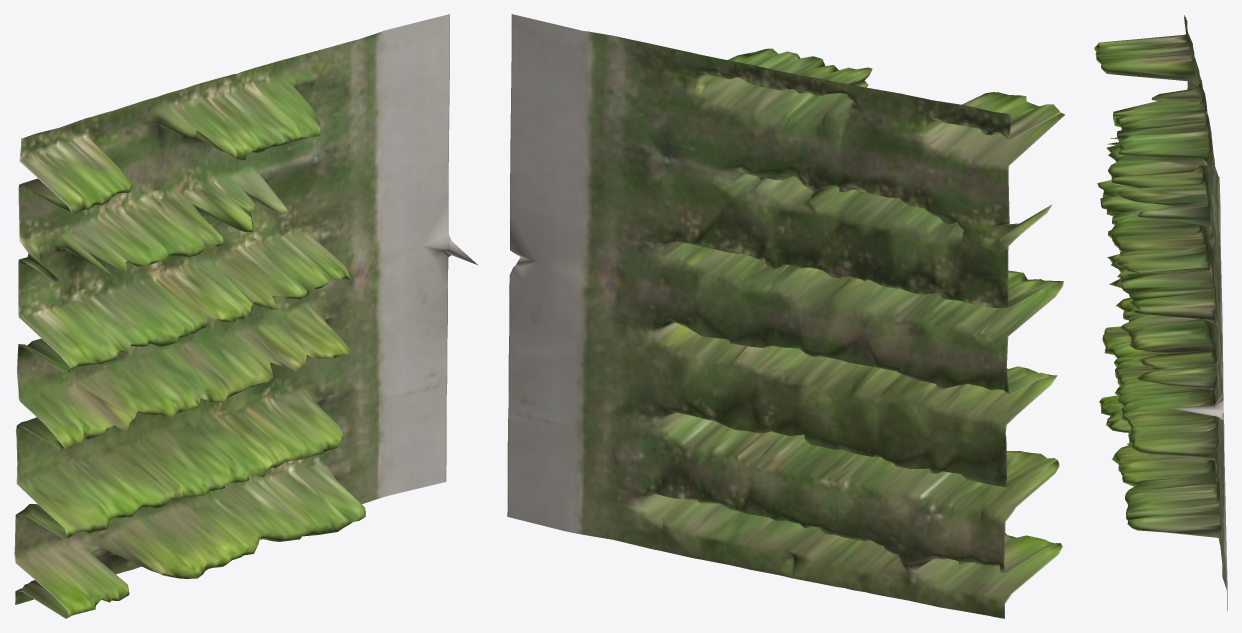
File: map_100_80.obj
3 views of the same model, side by side, from view 1: azimuth 30°, elevation 25°; view 2: azimuth 150°, elevation 25°; view 3: azimuth 270°, elevation 25° (orthographic). The views are drawn at different scales.
Visible parts, largest first — view 1: map_100_80.obj; view 2: map_100_80.obj; view 3: map_100_80.obj.
Boxes of the visible parts, x1,y1,x2,y2 form: map_100_80.obj: (14,14,477,618); map_100_80.obj: (507,14,1064,618); map_100_80.obj: (1094,15,1227,611).
Size of the model in its own units: 10 by 10 by 2.94.
1 material, 1 textured.
